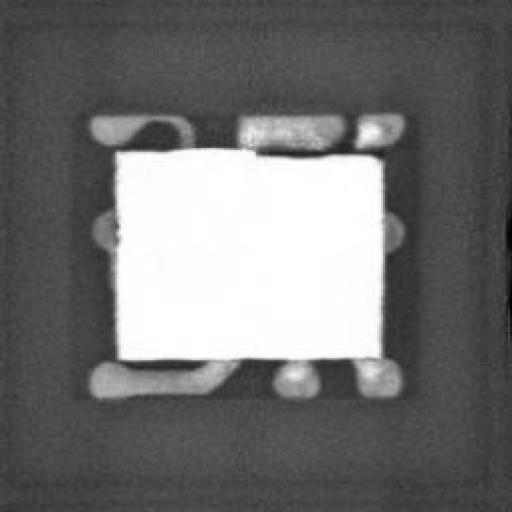DIE_BROKEN: (250, 142, 385, 158)
